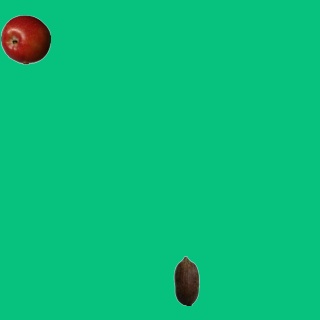Apple Braeburn: (0, 14, 50, 64)
Nut Pecan: (161, 255, 211, 305)
